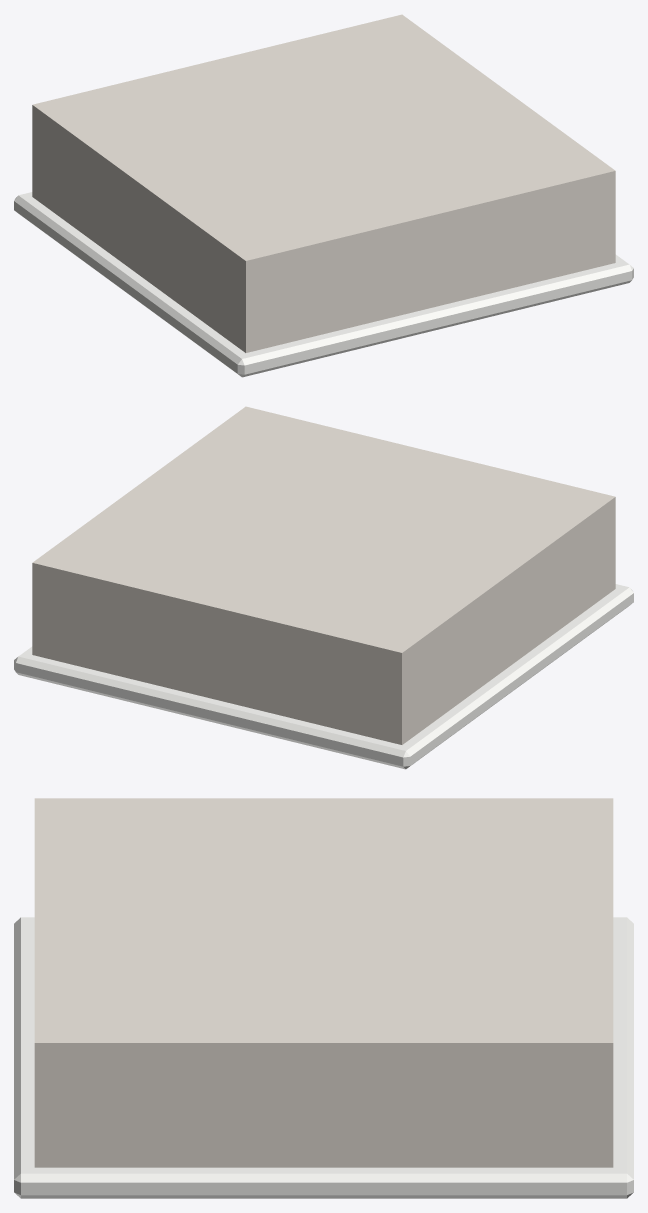
The model's file is ac_ceiling.glb.
3 renders of one model, top to bottom at view 1: azimuth 30°, elevation 25°; view 2: azimuth 150°, elevation 25°; view 3: azimuth 270°, elevation 25°, orthographic. The views are drawn at different scales.
Visible parts, largest first — view 1: ac_ceiling; view 2: ac_ceiling; view 3: ac_ceiling.
Part boxes in pixels (x1,y1,x2,y2): ac_ceiling: (14,14,633,377); ac_ceiling: (14,406,633,769); ac_ceiling: (14,798,633,1198).
Size of the model in its own units: 0.9 by 0.251 by 0.9.
2 materials, 1 textured.
